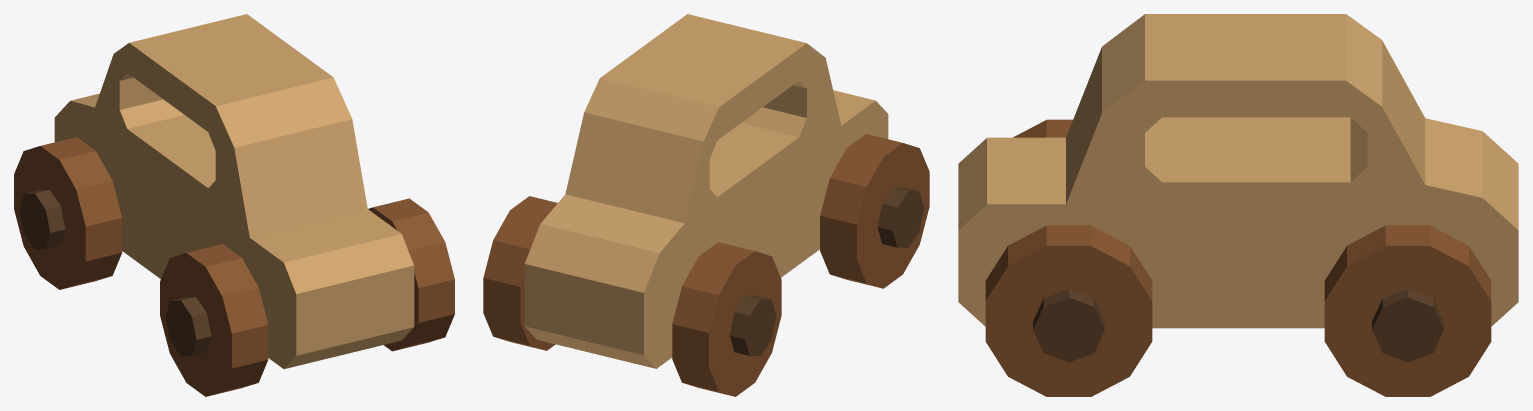
3 views of the same model, side by side, from view 1: azimuth 30°, elevation 25°; view 2: azimuth 150°, elevation 25°; view 3: azimuth 270°, elevation 25° (orthographic). The views are drawn at different scales.
Visible parts, largest first — view 1: Body_ContinuousThreeThroughBores, Wheel_Front_Left, Wheel_Rear_Left, Wheel_Front_Right, Axle_Front_IntegralShouldersAndCaps, Axle_Rear_IntegralShouldersAndCaps; view 2: Body_ContinuousThreeThroughBores, Wheel_Front_Left, Wheel_Rear_Left, Wheel_Rear_Right, Axle_Front_IntegralShouldersAndCaps, Axle_Rear_IntegralShouldersAndCaps; view 3: Body_ContinuousThreeThroughBores, Wheel_Front_Right, Wheel_Rear_Right, Axle_Front_IntegralShouldersAndCaps, Axle_Rear_IntegralShouldersAndCaps, Wheel_Front_Left.
Boxes of the visible parts, <box> form: Body_ContinuousThreeThroughBores: <box>54,14,414,368</box>; Wheel_Front_Left: <box>160,244,268,396</box>; Wheel_Rear_Left: <box>14,137,122,289</box>; Wheel_Front_Right: <box>368,198,454,351</box>; Axle_Front_IntegralShouldersAndCaps: <box>165,297,211,356</box>; Axle_Rear_IntegralShouldersAndCaps: <box>19,190,65,249</box>; Body_ContinuousThreeThroughBores: <box>524,14,888,368</box>; Wheel_Front_Left: <box>820,134,929,288</box>; Wheel_Rear_Left: <box>672,242,781,396</box>; Wheel_Rear_Right: <box>483,196,557,350</box>; Axle_Front_IntegralShouldersAndCaps: <box>877,187,923,247</box>; Axle_Rear_IntegralShouldersAndCaps: <box>730,295,776,355</box>; Body_ContinuousThreeThroughBores: <box>958,14,1518,328</box>; Wheel_Front_Right: <box>985,225,1152,396</box>; Wheel_Rear_Right: <box>1324,225,1491,396</box>; Axle_Front_IntegralShouldersAndCaps: <box>1033,289,1104,362</box>; Axle_Rear_IntegralShouldersAndCaps: <box>1372,289,1443,362</box>; Wheel_Front_Left: <box>1013,119,1072,137</box>.
Bounding box in the file's own units: 0.236 × 0.22 × 0.39.
